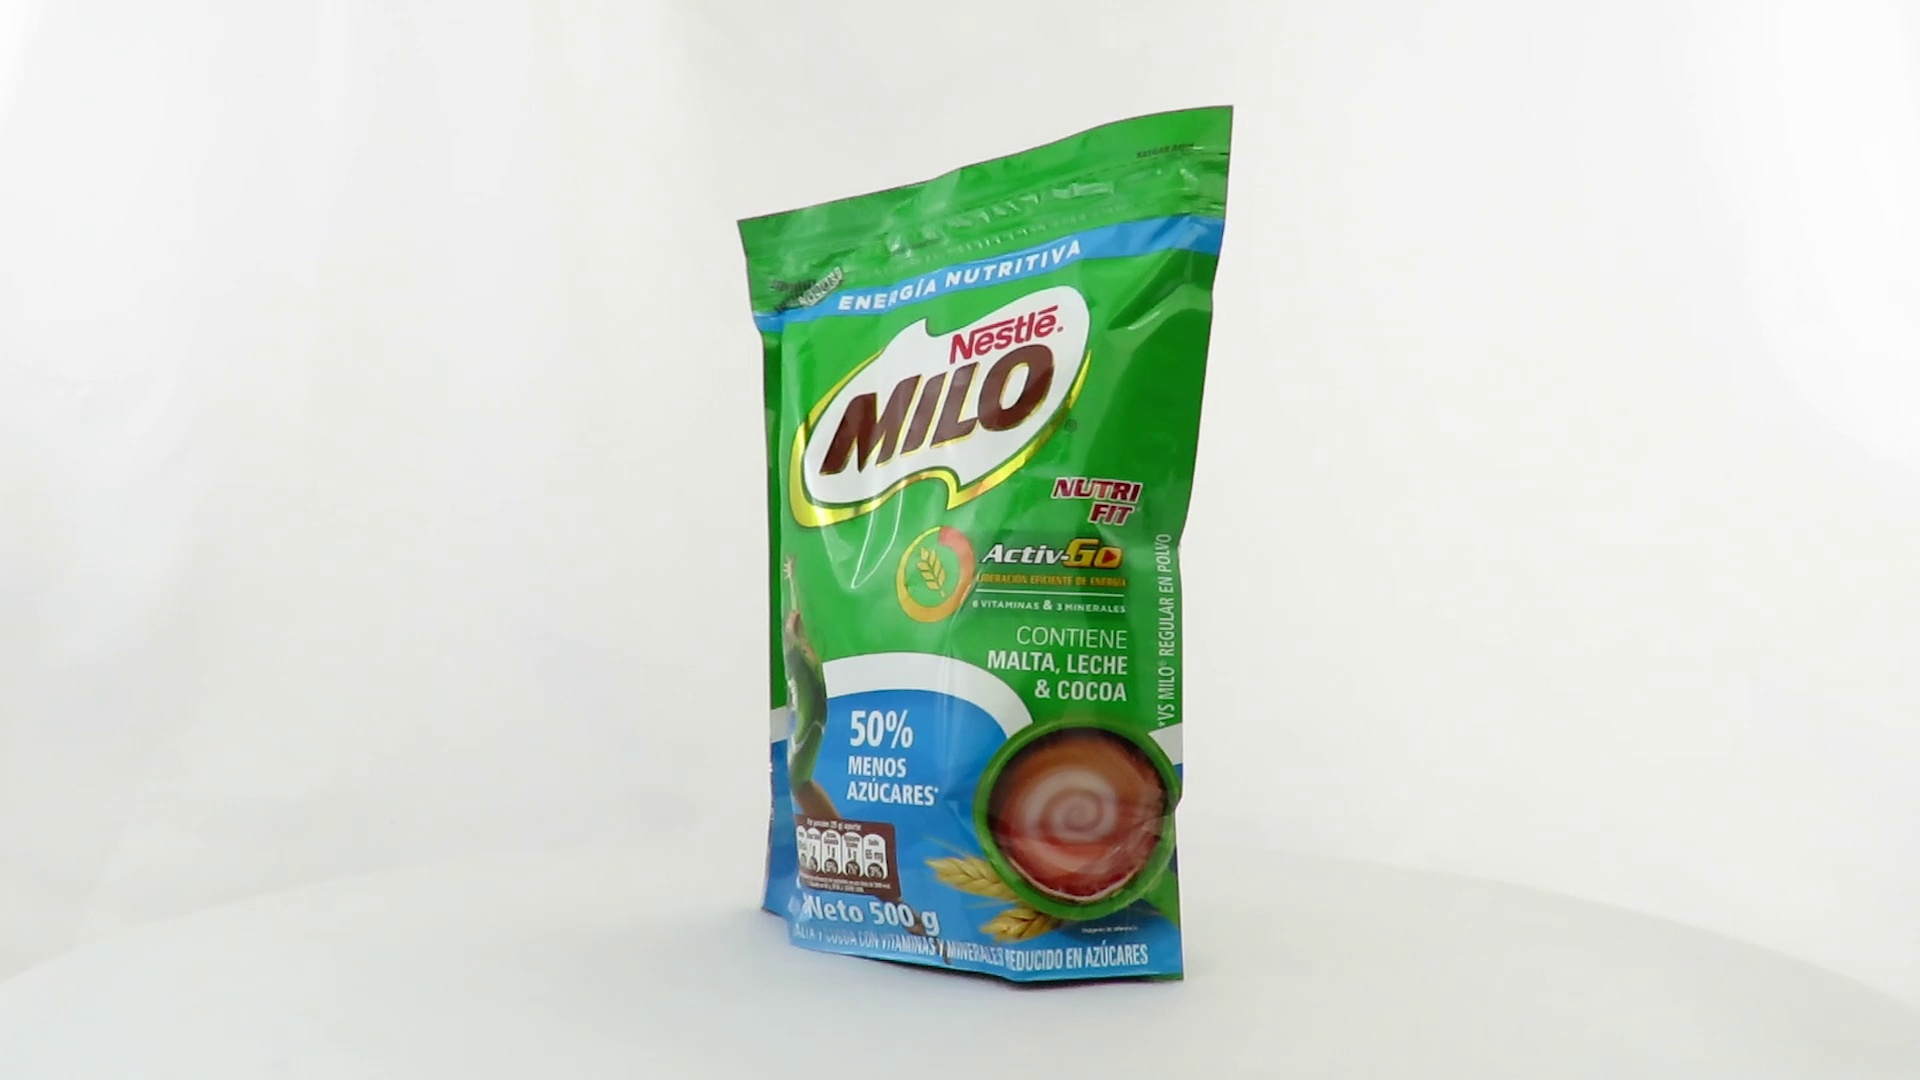COL0170205DYP50000: (731, 100, 1240, 998)
